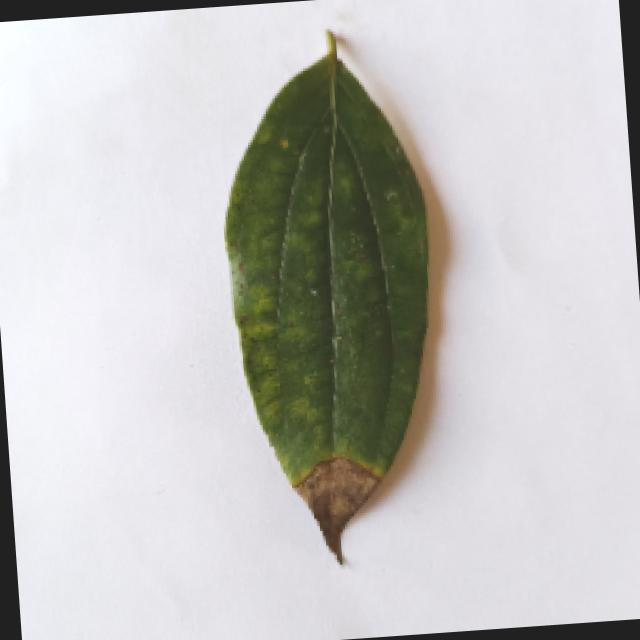footrot: (208, 24, 460, 574)
